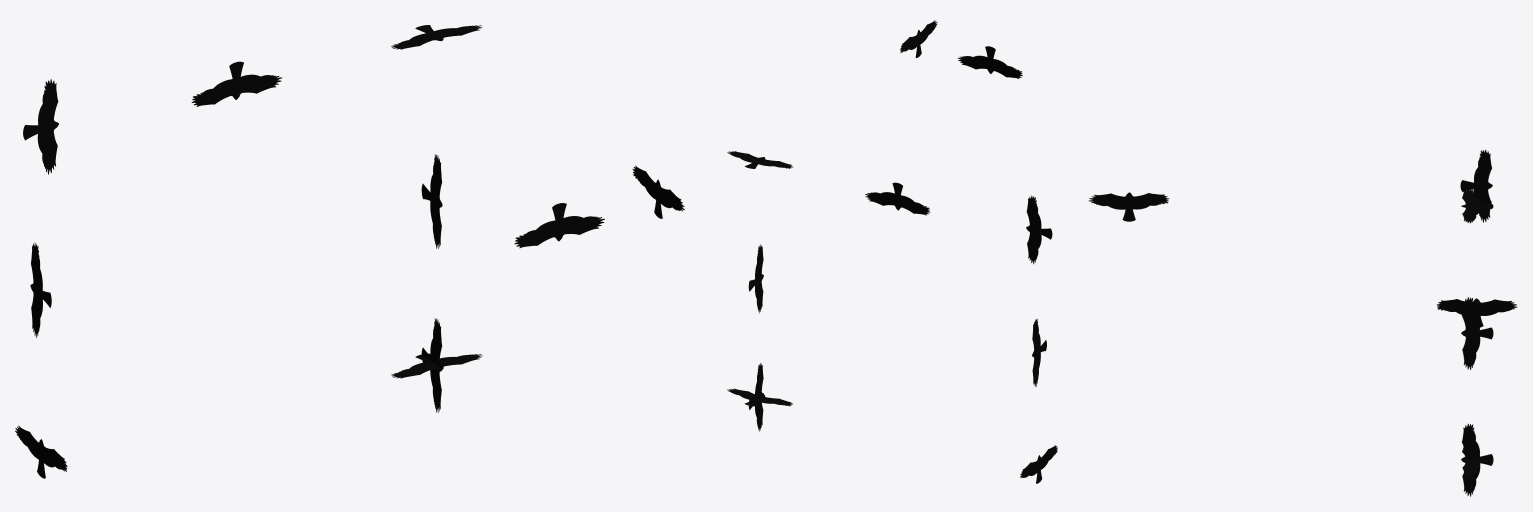
File: freebirdreallysmalltest1.glb
3 renders of one model, left to right at view 1: azimuth 30°, elevation 25°; view 2: azimuth 150°, elevation 25°; view 3: azimuth 270°, elevation 25°, orthographic. The views are drawn at different scales.
Parts seen in each view (by area): view 1: vogelstickerrichtig.010, vogelstickerrichtig.009, vogelstickerrichtig.005, vogelstickerrichtig.008, vogelstickerrichtig, vogelstickerrichtig.007, vogelstickerrichtig.011, vogelstickerrichtig.006, vogelstickerrichtig.002, vogelstickerrichtig.003; view 2: vogelstickerrichtig.005, vogelstickerrichtig.009, vogelstickerrichtig.010, vogelstickerrichtig.007, vogelstickerrichtig, vogelstickerrichtig.011, vogelstickerrichtig.008, vogelstickerrichtig.006, vogelstickerrichtig.002, vogelstickerrichtig.003; view 3: vogelstickerrichtig.007, vogelstickerrichtig.011, vogelstickerrichtig.008, vogelstickerrichtig.002, vogelstickerrichtig, vogelstickerrichtig.006.
Boxes of the visible parts, x1=… form: vogelstickerrichtig.010: x1=514, y1=203, x2=604, y2=248; vogelstickerrichtig.009: x1=191, y1=61, x2=281, y2=106; vogelstickerrichtig.005: x1=23, y1=79, x2=58, y2=174; vogelstickerrichtig.008: x1=30, y1=242, x2=51, y2=337; vogelstickerrichtig: x1=15, y1=426, x2=67, y2=478; vogelstickerrichtig.007: x1=421, y1=154, x2=442, y2=248; vogelstickerrichtig.011: x1=632, y1=165, x2=684, y2=218; vogelstickerrichtig.006: x1=391, y1=25, x2=481, y2=49; vogelstickerrichtig.002: x1=421, y1=318, x2=442, y2=412; vogelstickerrichtig.003: x1=391, y1=353, x2=482, y2=378; vogelstickerrichtig.005: x1=1026, y1=195, x2=1052, y2=264; vogelstickerrichtig.009: x1=865, y1=182, x2=930, y2=215; vogelstickerrichtig.010: x1=957, y1=46, x2=1022, y2=78; vogelstickerrichtig.007: x1=748, y1=244, x2=763, y2=313; vogelstickerrichtig: x1=1020, y1=445, x2=1057, y2=483; vogelstickerrichtig.011: x1=900, y1=20, x2=937, y2=57; vogelstickerrichtig.008: x1=1032, y1=319, x2=1046, y2=386; vogelstickerrichtig.006: x1=727, y1=151, x2=792, y2=168; vogelstickerrichtig.002: x1=748, y1=363, x2=763, y2=431; vogelstickerrichtig.003: x1=727, y1=388, x2=792, y2=406; vogelstickerrichtig.007: x1=1461, y1=297, x2=1493, y2=370; vogelstickerrichtig.011: x1=1088, y1=192, x2=1168, y2=221; vogelstickerrichtig.008: x1=1460, y1=149, x2=1492, y2=222; vogelstickerrichtig.002: x1=1461, y1=423, x2=1493, y2=496; vogelstickerrichtig: x1=1437, y1=298, x2=1516, y2=327; vogelstickerrichtig.006: x1=1461, y1=189, x2=1493, y2=223.
Size of the model in its own units: 11.69 by 10.43 by 12.38.
12 materials, 12 textured.
